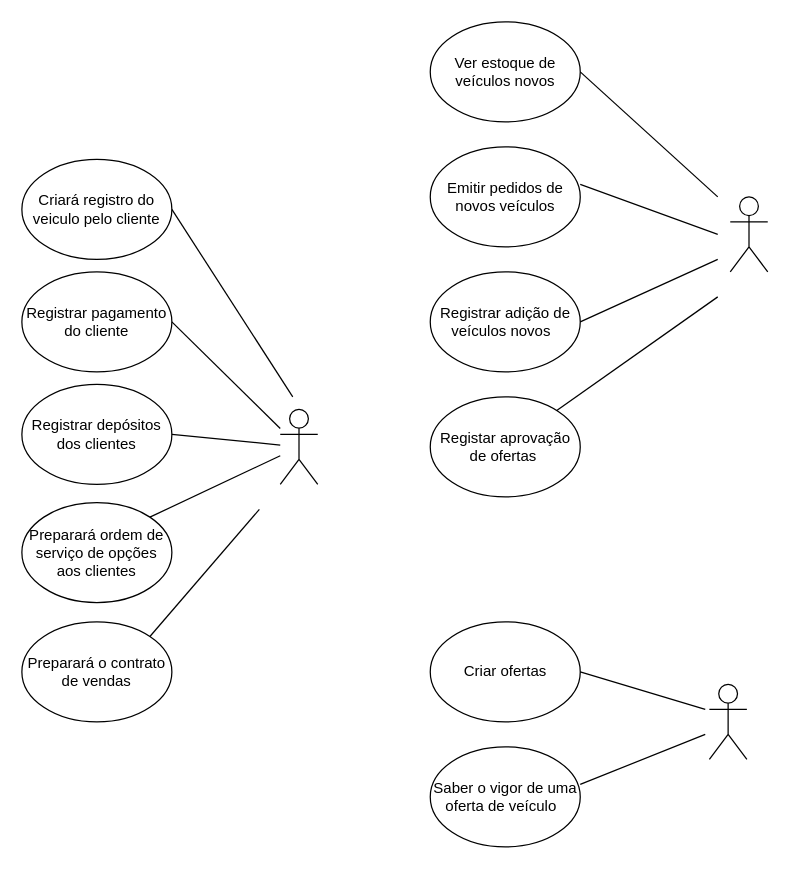
This 798x869 diagram has some shape labels left out. Each missing label, with the centre of its shape:
"Gerente" goes at point 748,234.
"Sistema" goes at point 298,446.
"Vendedor" goes at point 727,721.
